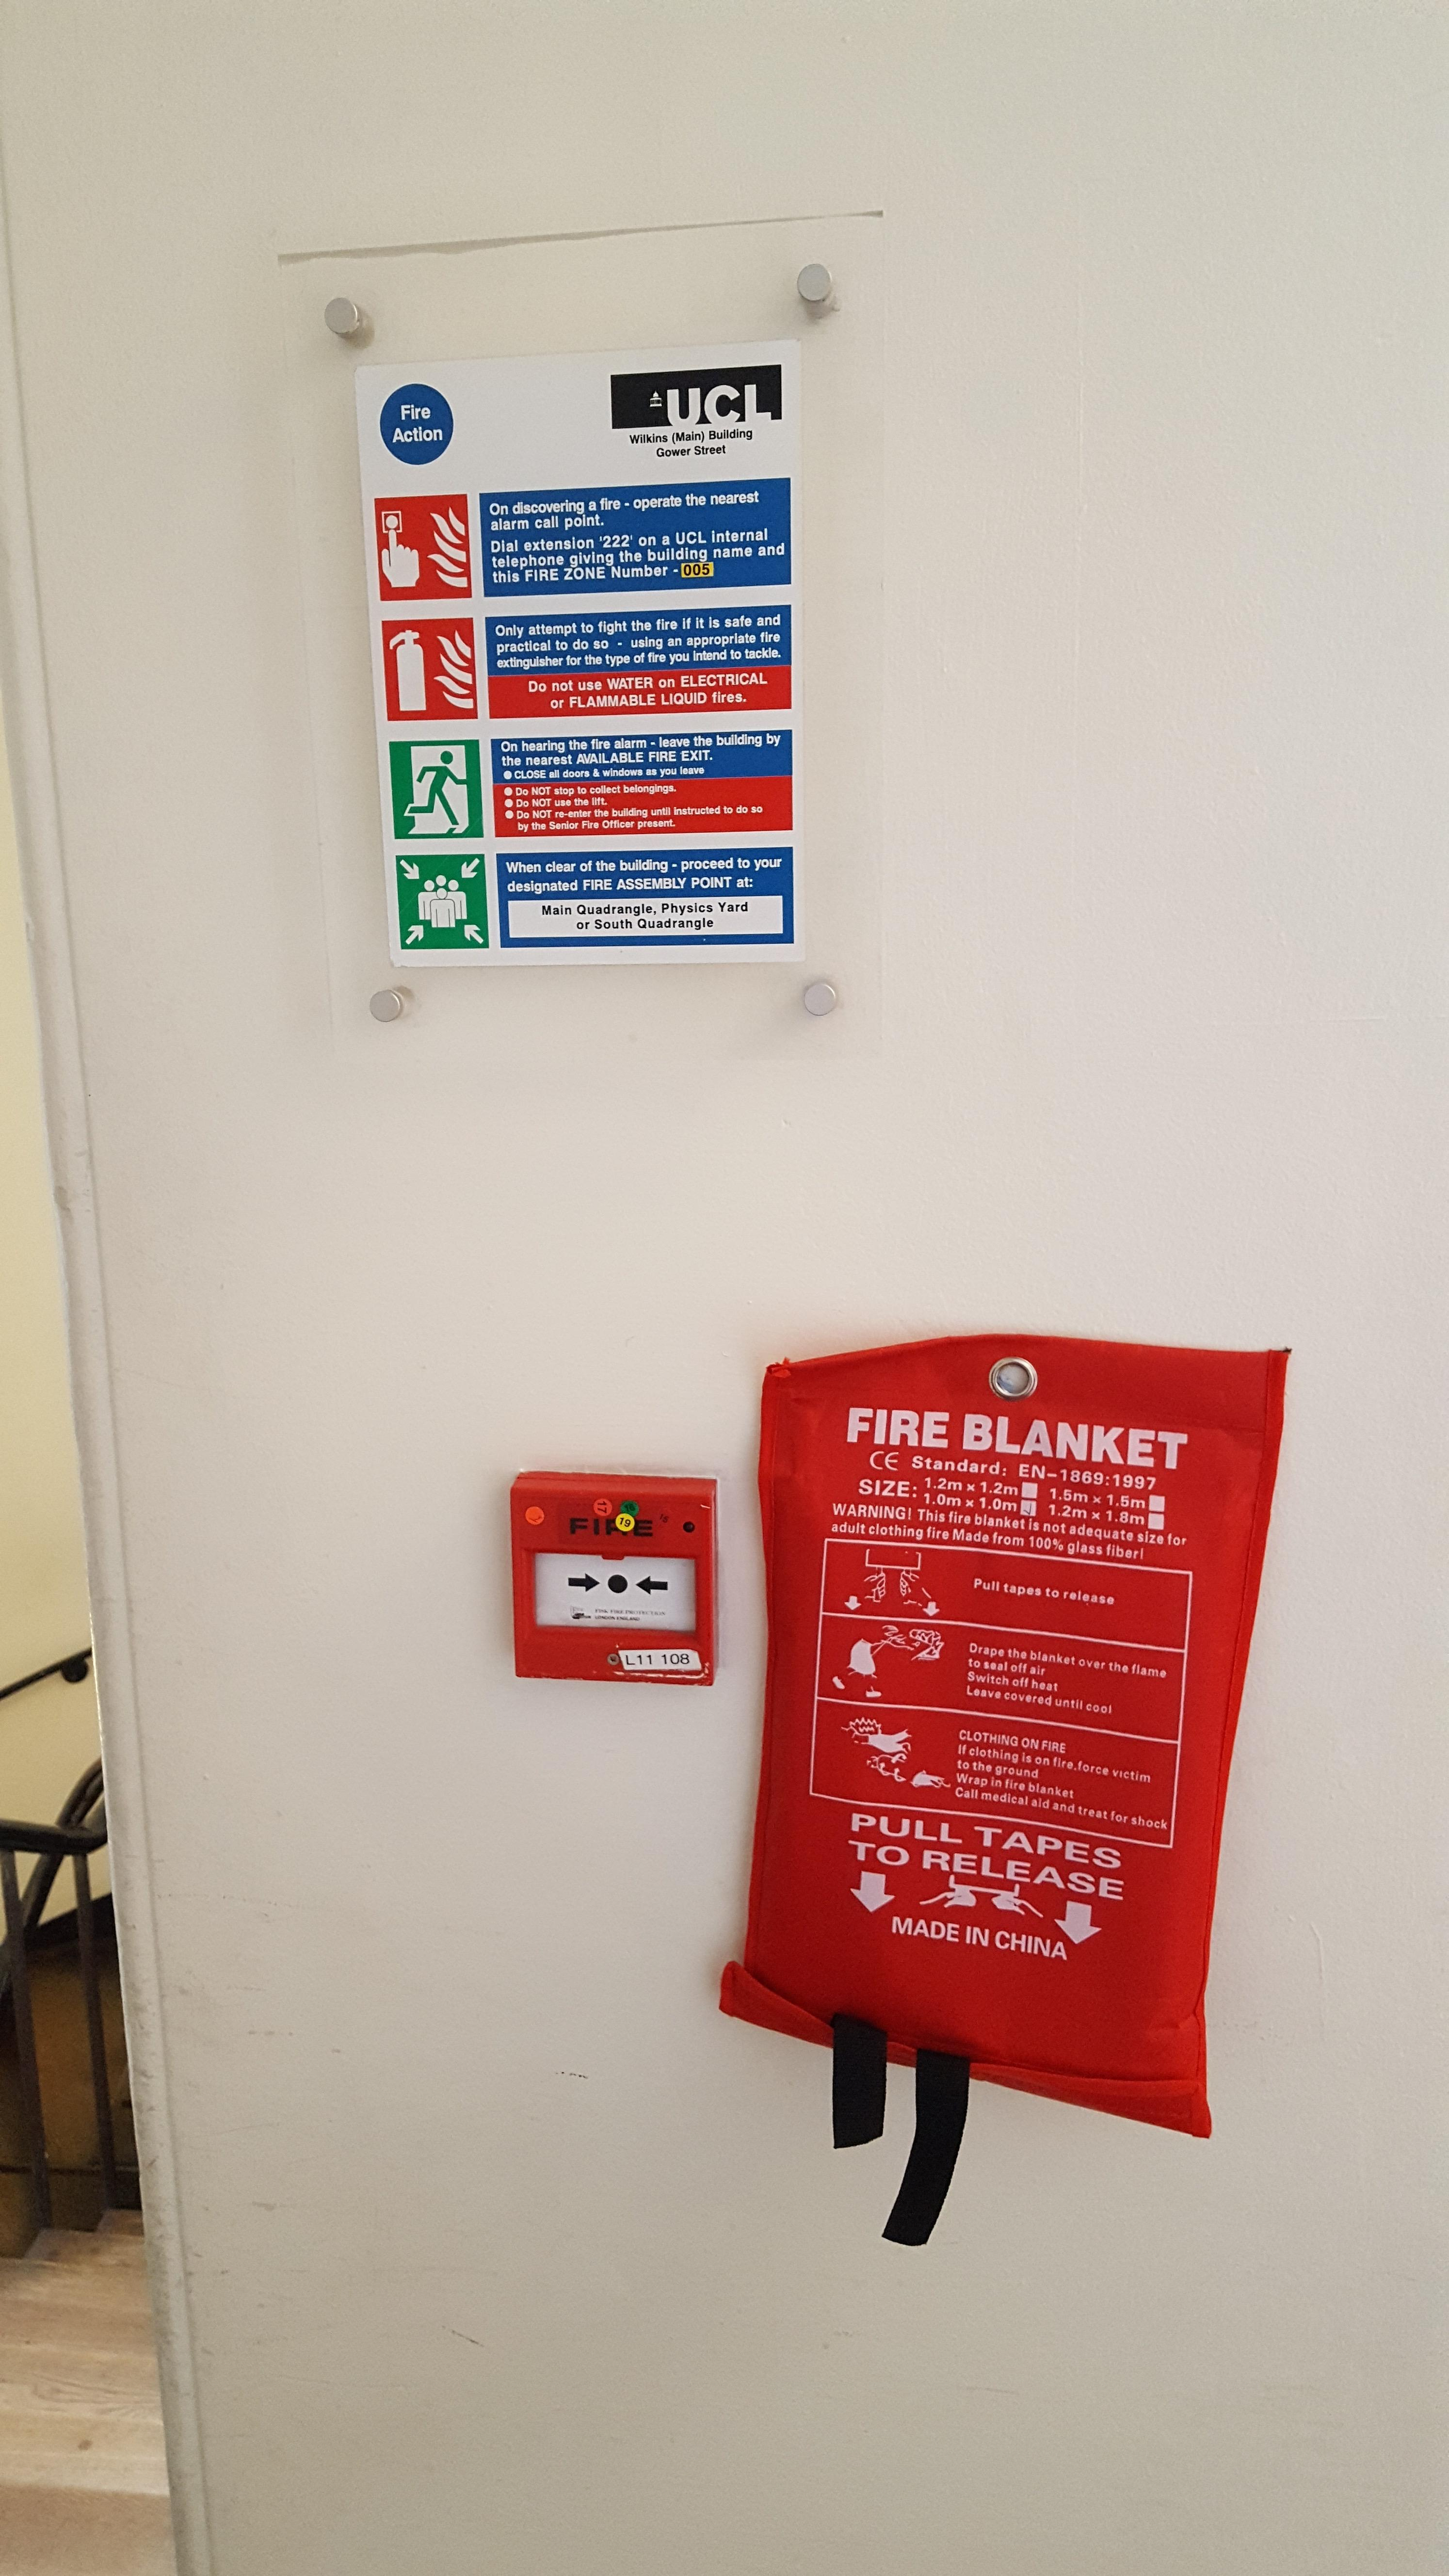blanket: (715, 1331, 1292, 2143)
call_point: (510, 1471, 718, 1687)
